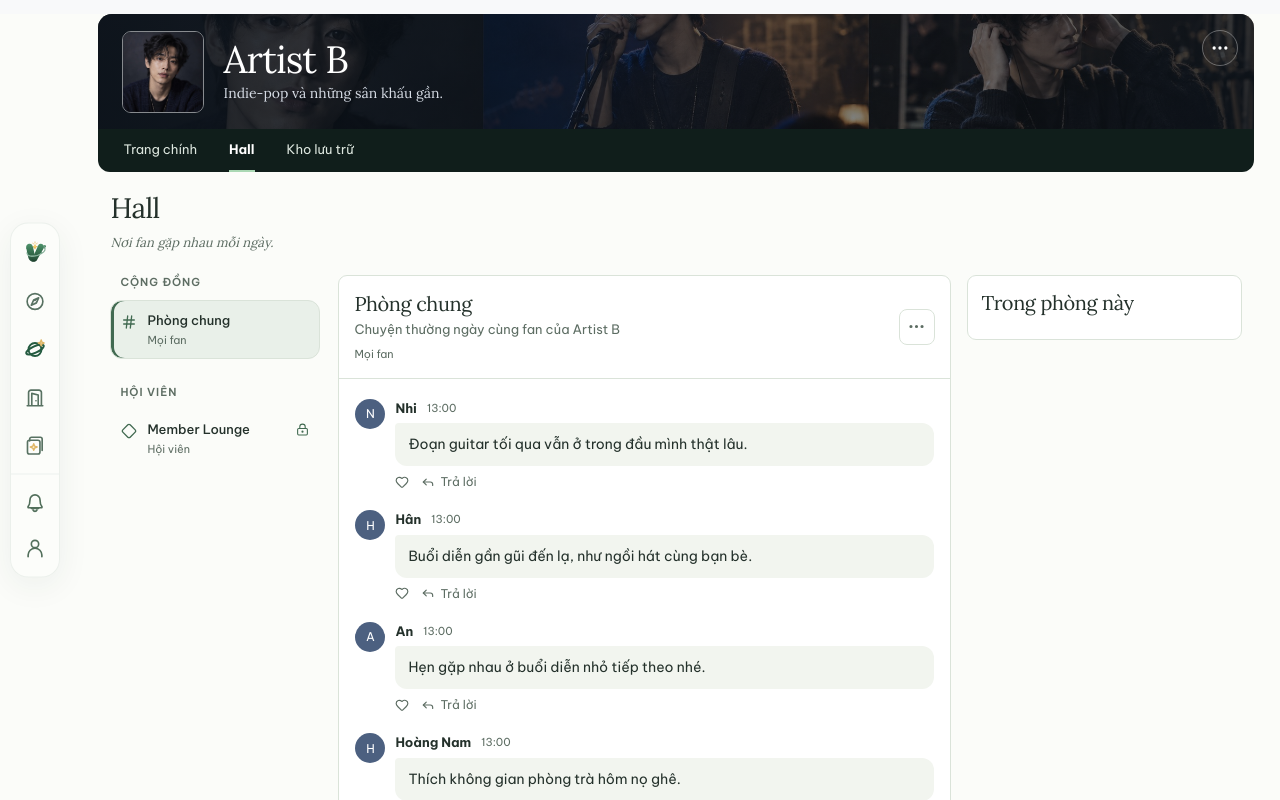
Artist World entry boundary › opens public Hall but locks the member Lounge for visitors
Step 1. Click the button "Member Lounge Hội viên" → click(215, 439), box left=110, top=409, right=320, bottom=469
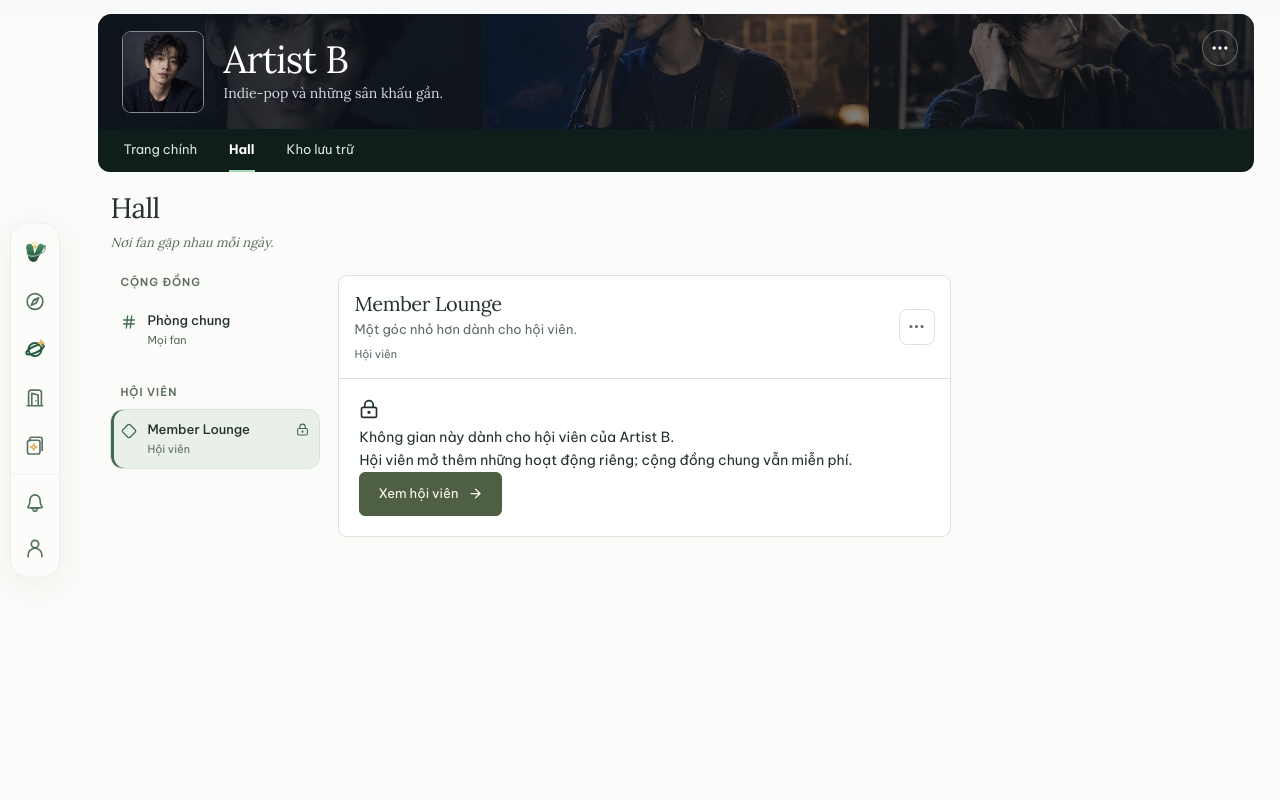
Expected: the text "Không gian này dành cho hội viên của Artist B." is shown, left=359, top=428, right=674, bottom=446
